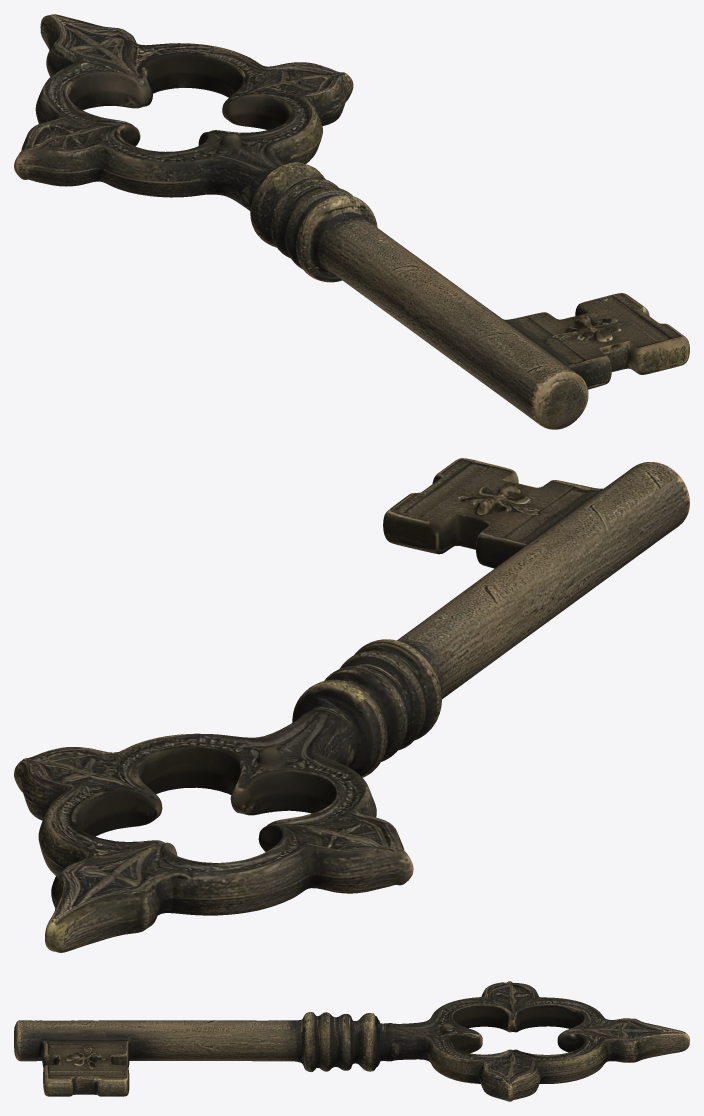
The model's file is vintage-key.glb.
3 views of the same model, one above another, from view 1: azimuth 30°, elevation 25°; view 2: azimuth 150°, elevation 25°; view 3: azimuth 270°, elevation 25° (orthographic). The views are drawn at different scales.
Parts seen in each view (by area): view 1: node_0; view 2: node_0; view 3: node_0.
Part boxes in pixels (left/top/right/bottom): node_0: left=14, top=14, right=689, bottom=429; node_0: left=14, top=458, right=689, bottom=952; node_0: left=14, top=981, right=689, bottom=1101.
Bounding box in the file's own units: 0.4507 × 0.1078 × 1.2.
1 material, 1 textured.
